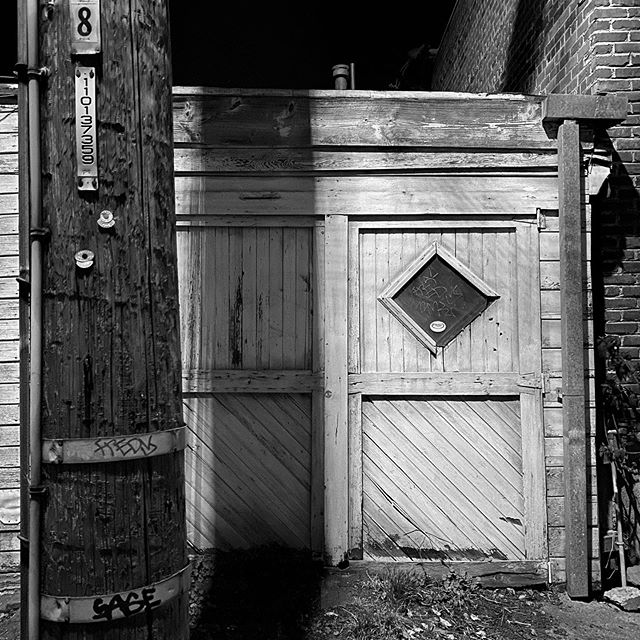building: (107, 72, 601, 571)
